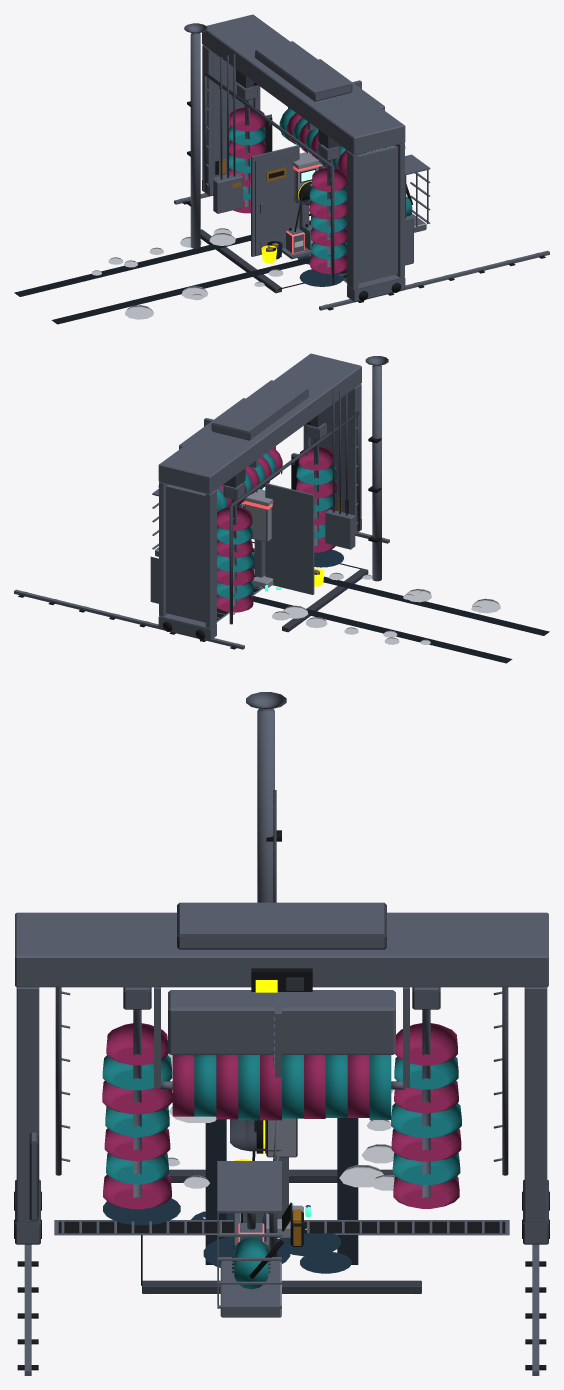
File: room-detail-myjnia-props.glb
3 renders of one model, top to bottom at view 1: azimuth 30°, elevation 25°; view 2: azimuth 150°, elevation 25°; view 3: azimuth 270°, elevation 25°, orthographic. The views are drawn at different scales.
Parts seen in each view (by area): view 1: rd-cw-gantry, rd-cw-machine, rd-cw-bay, rd-cw-chem, rd-cw-pay, rd-cw-tubes; view 2: rd-cw-gantry, rd-cw-machine, rd-cw-bay, rd-cw-pay, rd-cw-tubes; view 3: rd-cw-gantry, rd-cw-bay, rd-cw-machine, rd-cw-tubes, rd-cw-chem, rd-cw-pay.
Part boxes in pixels (bbox=[...]): rd-cw-gantry: bbox=[174, 14, 549, 310]; rd-cw-machine: bbox=[184, 23, 430, 256]; rd-cw-bay: bbox=[14, 220, 346, 324]; rd-cw-chem: bbox=[261, 166, 325, 264]; rd-cw-pay: bbox=[292, 152, 322, 230]; rd-cw-tubes: bbox=[200, 229, 304, 293]; rd-cw-gantry: bbox=[14, 353, 389, 649]; rd-cw-machine: bbox=[152, 356, 388, 594]; rd-cw-bay: bbox=[217, 549, 549, 663]; rd-cw-pay: bbox=[242, 489, 273, 588]; rd-cw-tubes: bbox=[252, 542, 368, 632]; rd-cw-gantry: bbox=[14, 902, 549, 1375]; rd-cw-bay: bbox=[54, 1053, 509, 1273]; rd-cw-machine: bbox=[217, 692, 286, 1317]; rd-cw-tubes: bbox=[141, 1169, 421, 1294]; rd-cw-chem: bbox=[191, 1119, 281, 1249]; rd-cw-pay: bbox=[266, 1118, 303, 1237].
Size of the model in its own units: 10.2 by 5.63 by 6.12.
Materials: 1 (1 with a texture image).
